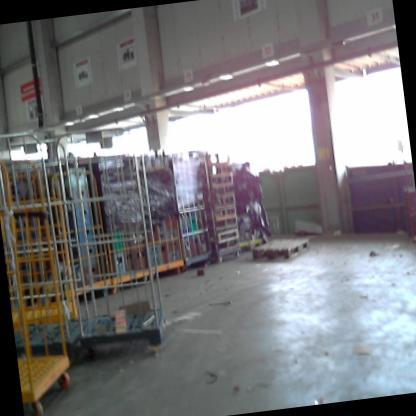pallet: (248, 231, 315, 265)
